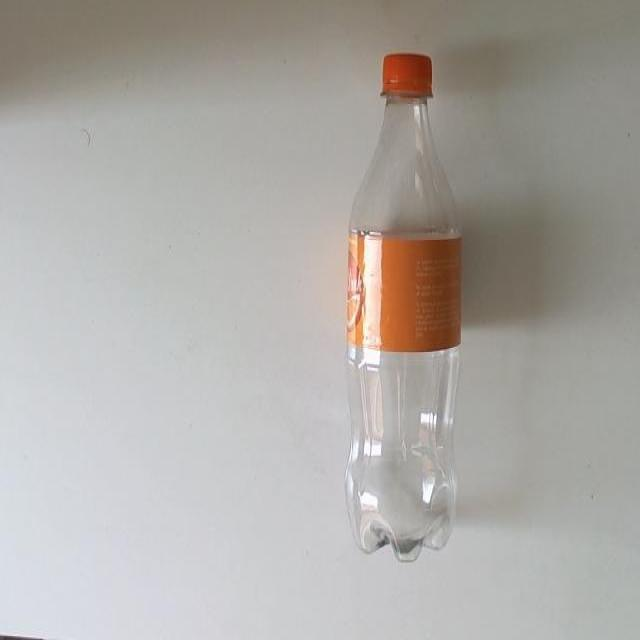non-defect: (346, 45, 466, 559)
